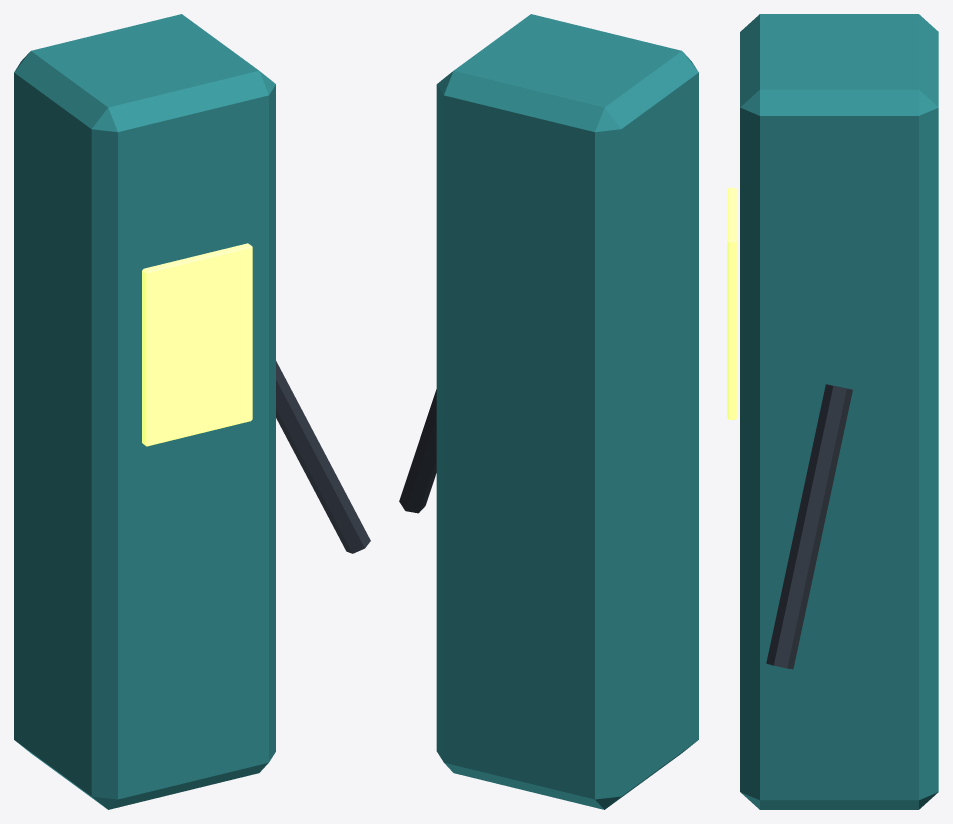
Rendered from street_008_seed100.glb.
The picture shows the model from 3 angles, left to right: view 1: azimuth 30°, elevation 25°; view 2: azimuth 150°, elevation 25°; view 3: azimuth 270°, elevation 25°; orthographic projection. The views are drawn at different scales.
Visible parts, largest first — view 1: street_008_seed100; view 2: street_008_seed100; view 3: street_008_seed100.
Boxes of the visible parts, box(x1,y1,x2,y2) form: street_008_seed100: box(14, 14, 370, 809); street_008_seed100: box(399, 14, 698, 809); street_008_seed100: box(727, 14, 938, 809).
Size of the model in its own units: 0.8535 by 2 by 0.5325.
